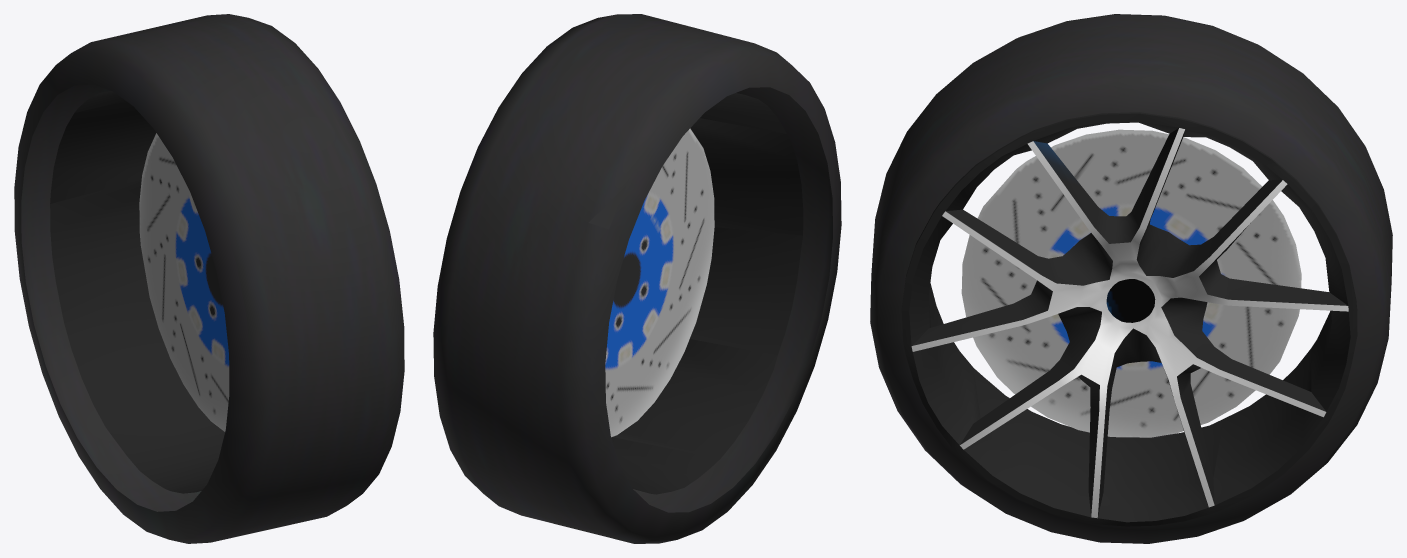
Rendered from WheelFront_L.glb.
3 views of the same model, side by side, from view 1: azimuth 30°, elevation 25°; view 2: azimuth 150°, elevation 25°; view 3: azimuth 270°, elevation 25° (orthographic).
Visible parts, largest first — view 1: SportCoupe.007; view 2: SportCoupe.007; view 3: SportCoupe.007.
Boxes of the visible parts, x1=… form: SportCoupe.007: x1=14, y1=14, x2=404, y2=543; SportCoupe.007: x1=433, y1=14, x2=841, y2=543; SportCoupe.007: x1=870, y1=14, x2=1392, y2=543.
Bounding box in the file's own units: 0.3989 × 0.9912 × 0.9967.
Materials: 1 (1 with a texture image).
